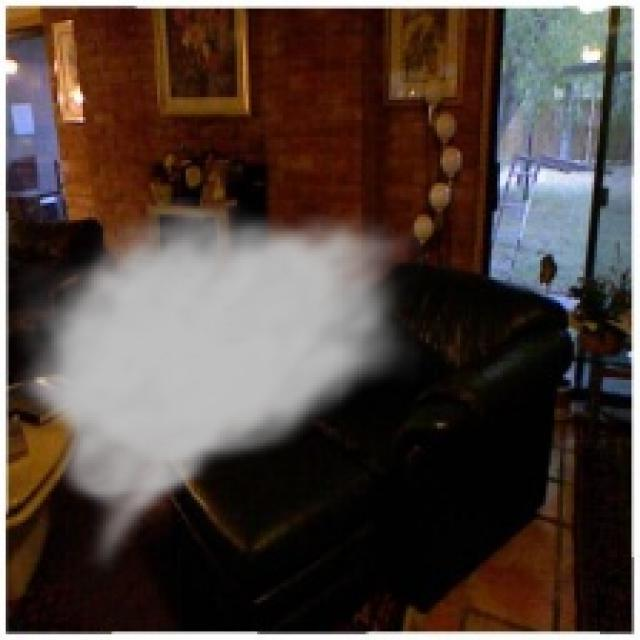Smoke: (8, 197, 426, 577)
